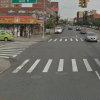Crosswalk: (10, 54, 96, 76)
